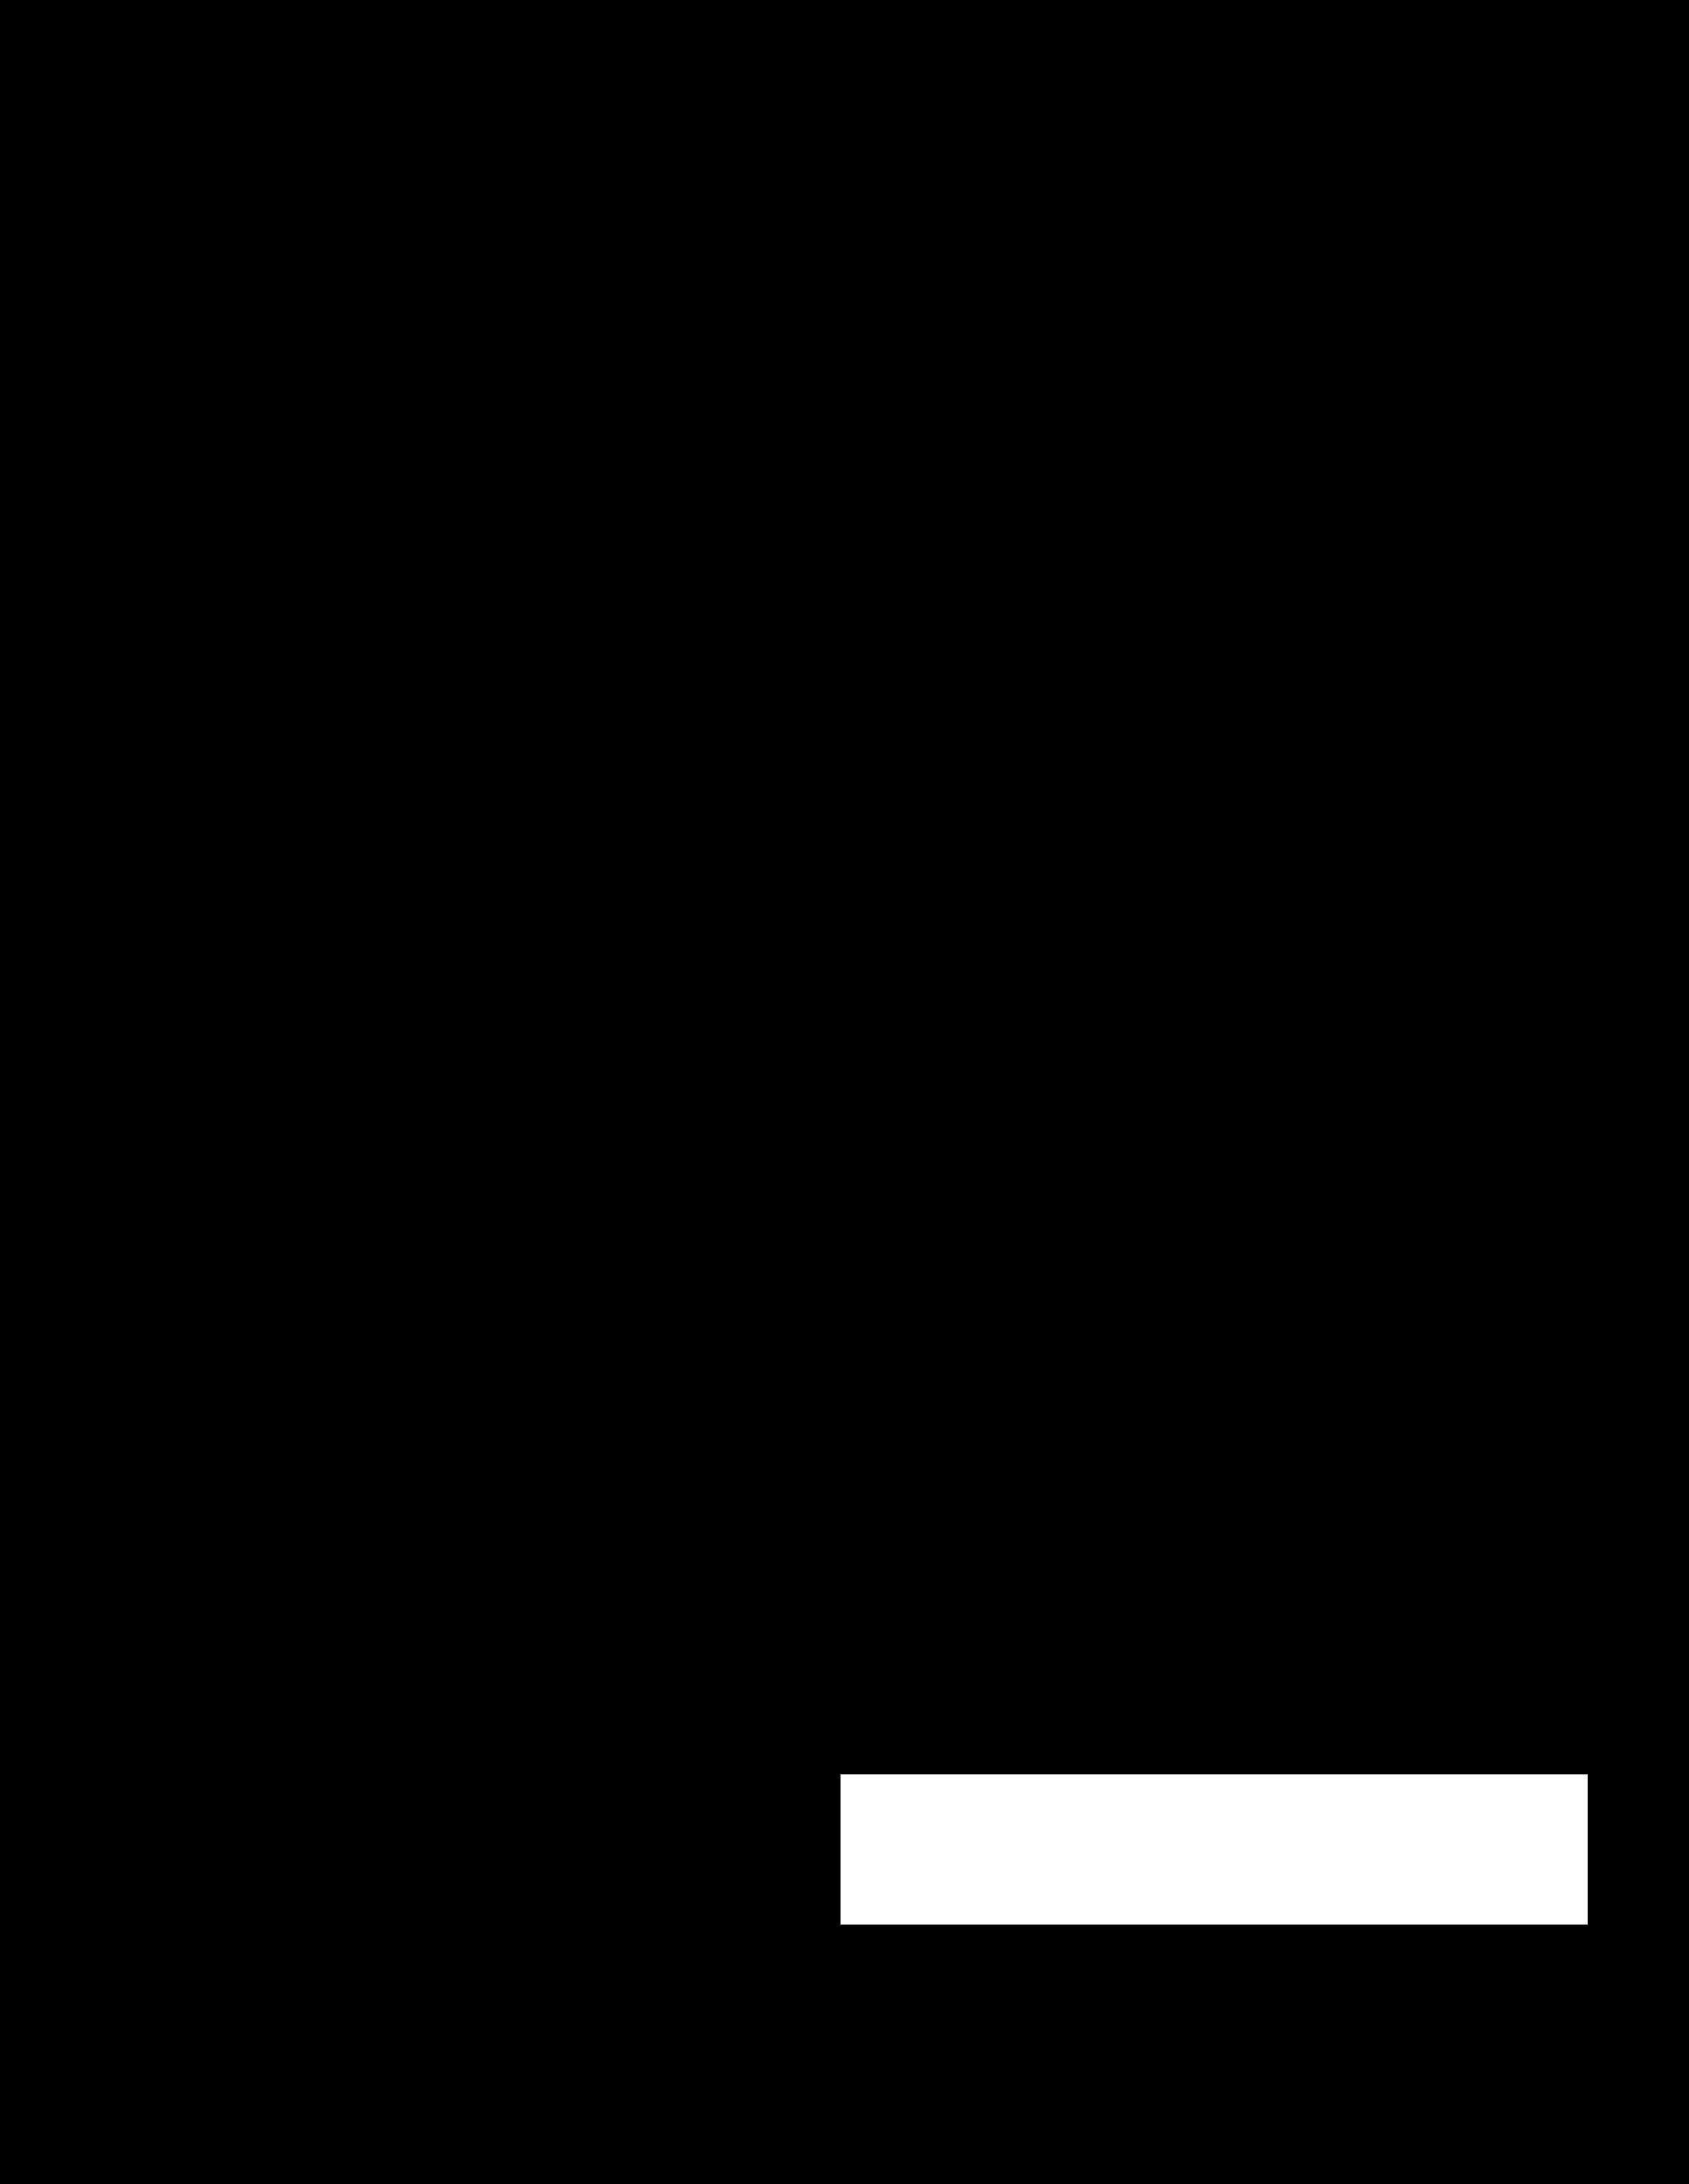table: (840, 1775, 1586, 1923)
